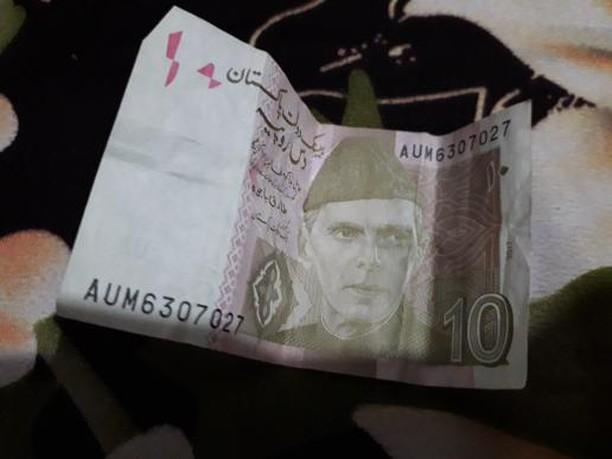10 rupee: (52, 6, 542, 395)
